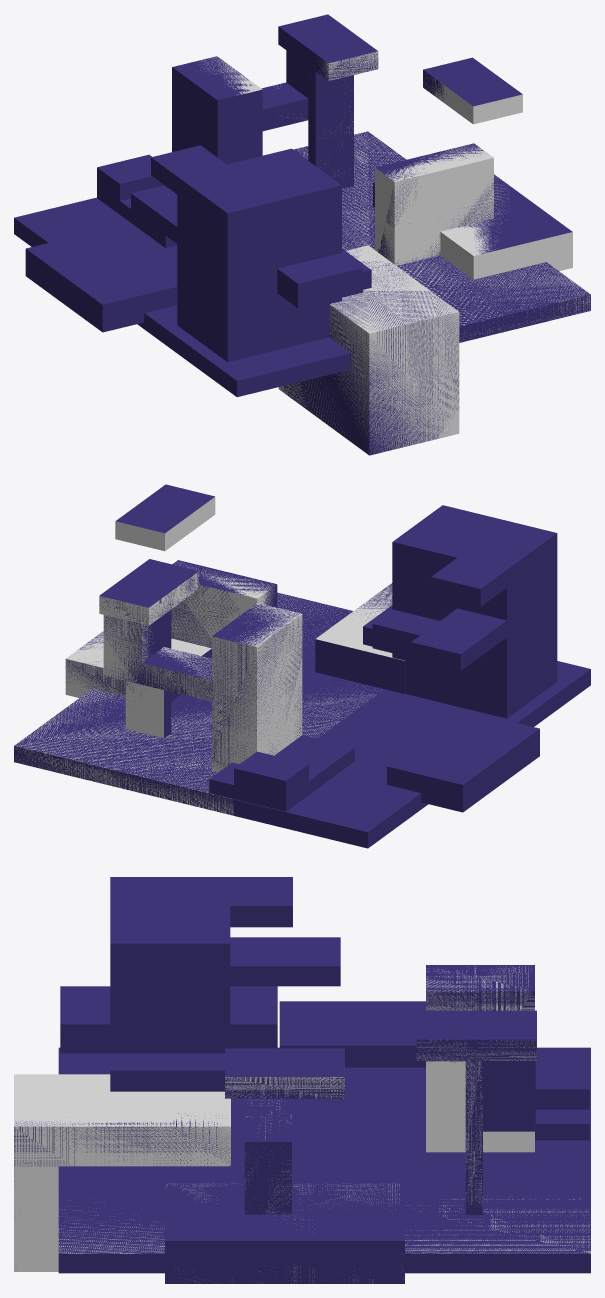
The model's file is lowpoly_islandtest.glb.
The picture shows the model from 3 angles, top to bottom: view 1: azimuth 30°, elevation 25°; view 2: azimuth 150°, elevation 25°; view 3: azimuth 270°, elevation 25°; orthographic projection. The views are drawn at different scales.
Parts seen in each view (by area): view 1: col_Island, Cube.002, Cube.001, Cube, Cube.004, Cube.005, Cube.006, Cube.003; view 2: col_Island, Cube.003, Cube, Cube.007, Cube.001, Cube.004, Cube.002, Cube.005, Cube.006; view 3: col_Island, Cube.002, Cube.003, Cube, Cube.005, Cube.007, Cube.006.
Part boxes in pixels (x1=…): col_Island: x1=14, y1=14, x2=590, y2=455; Cube.002: x1=278, y1=245, x2=459, y2=451; Cube.001: x1=375, y1=145, x2=493, y2=265; Cube: x1=297, y1=132, x2=590, y2=341; Cube.004: x1=373, y1=179, x2=572, y2=279; Cube.005: x1=423, y1=73, x2=522, y2=124; Cube.006: x1=311, y1=51, x2=378, y2=80; Cube.003: x1=200, y1=56, x2=262, y2=94; col_Island: x1=14, y1=484, x2=590, y2=848; Cube.003: x1=212, y1=603, x2=302, y2=772; Cube: x1=14, y1=593, x2=377, y2=815; Cube.007: x1=103, y1=615, x2=212, y2=738; Cube.001: x1=171, y1=561, x2=274, y2=648; Cube.004: x1=65, y1=631, x2=211, y2=697; Cube.002: x1=316, y1=583, x2=404, y2=660; Cube.005: x1=115, y1=497, x2=215, y2=551; Cube.006: x1=99, y1=571, x2=199, y2=625; col_Island: x1=14, y1=877, x2=590, y2=1283; Cube.002: x1=14, y1=1074, x2=230, y2=1271; Cube.003: x1=426, y1=965, x2=534, y2=1152; Cube: x1=58, y1=1198, x2=590, y2=1253; Cube.005: x1=225, y1=1077, x2=344, y2=1098; Cube.007: x1=465, y1=1061, x2=482, y2=1206; Cube.006: x1=416, y1=1039, x2=536, y2=1061.
Bounding box in the file's own units: 58.32 × 31.37 × 57.85.
